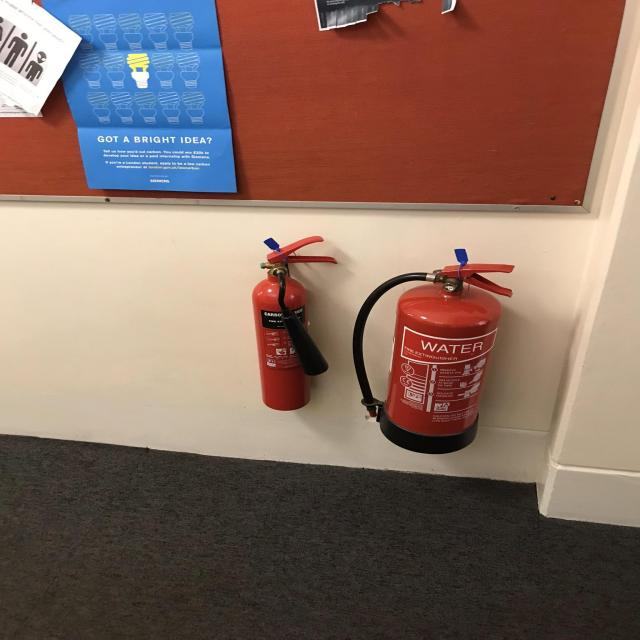fire_extinguisher: (346, 260, 518, 458), (250, 234, 338, 412)
